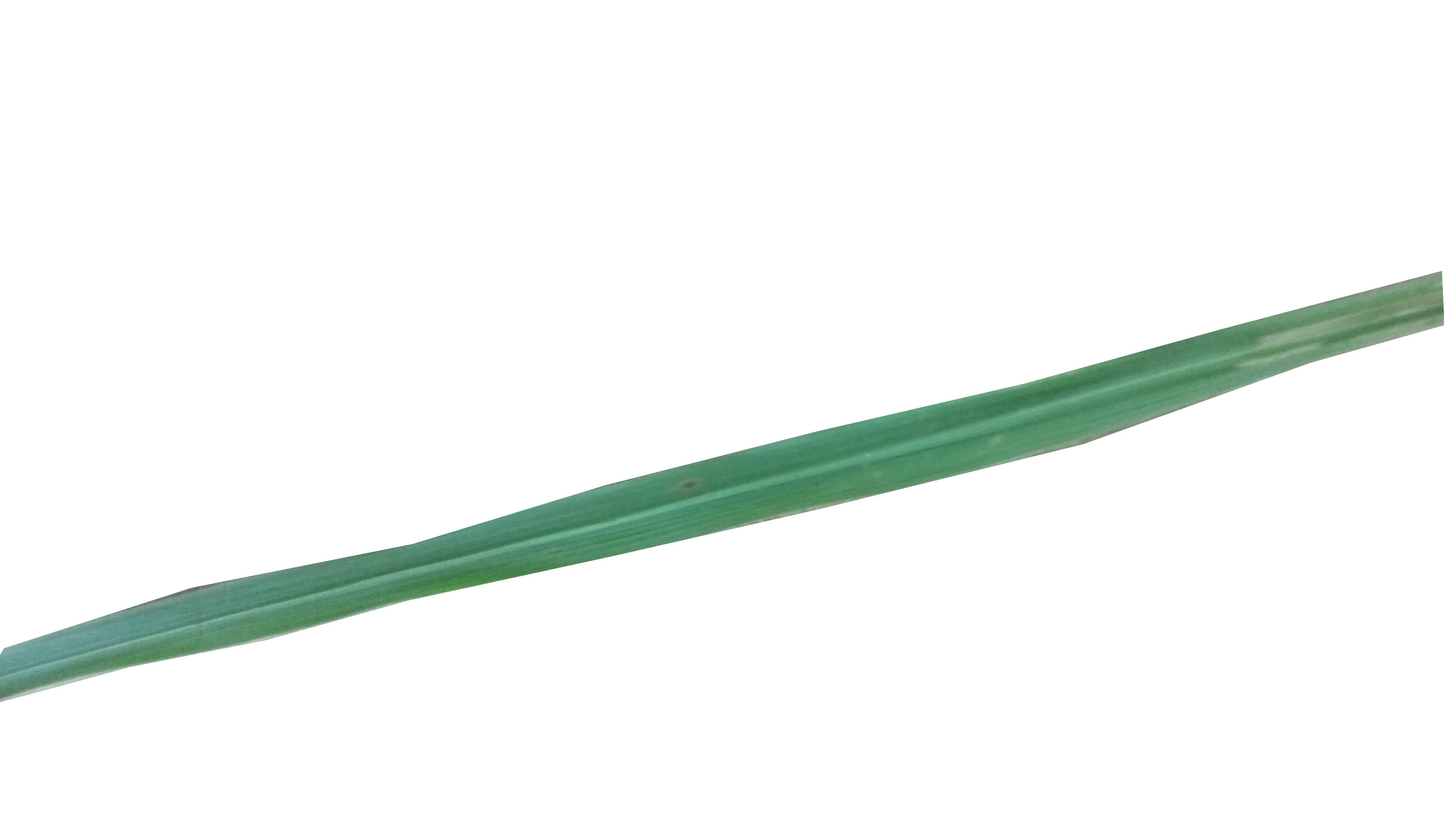Brown spot: (676, 471, 707, 501)
